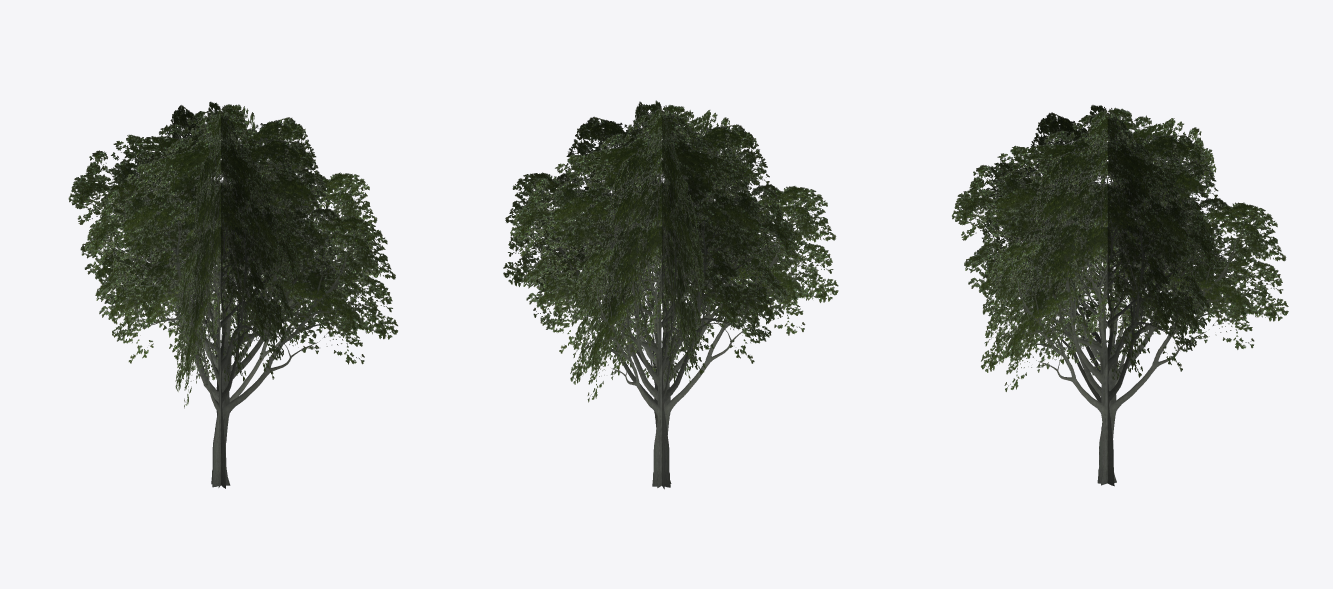
Rendered from Tree_04_STATIC.fbx.
3 views of the same model, side by side, from view 1: azimuth 30°, elevation 25°; view 2: azimuth 150°, elevation 25°; view 3: azimuth 270°, elevation 25° (orthographic).
Visible parts, largest first — view 1: Tree_04_STATIC; view 2: Tree_04_STATIC; view 3: Tree_04_STATIC.
Boxes of the visible parts, <box> form: Tree_04_STATIC: <box>68,101,397,488</box>; Tree_04_STATIC: <box>503,100,838,489</box>; Tree_04_STATIC: <box>952,105,1288,486</box>.
Size of the model in its own units: 1420 by 1420 by 1420.
